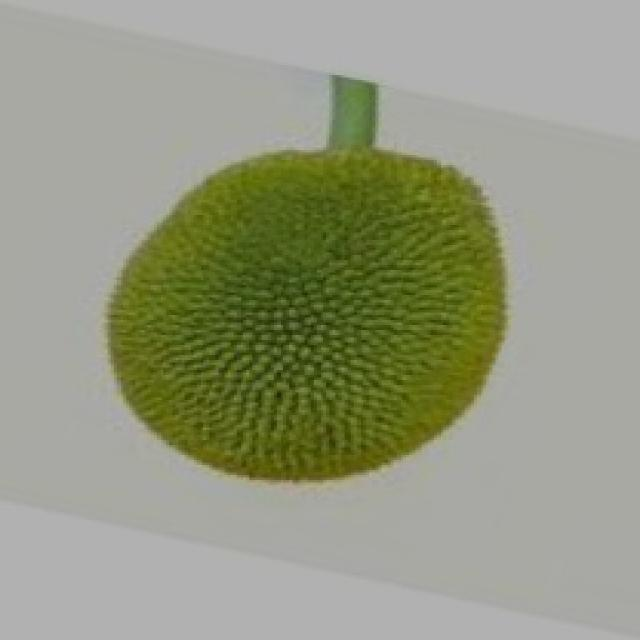Fruit: (127, 122, 536, 500)
